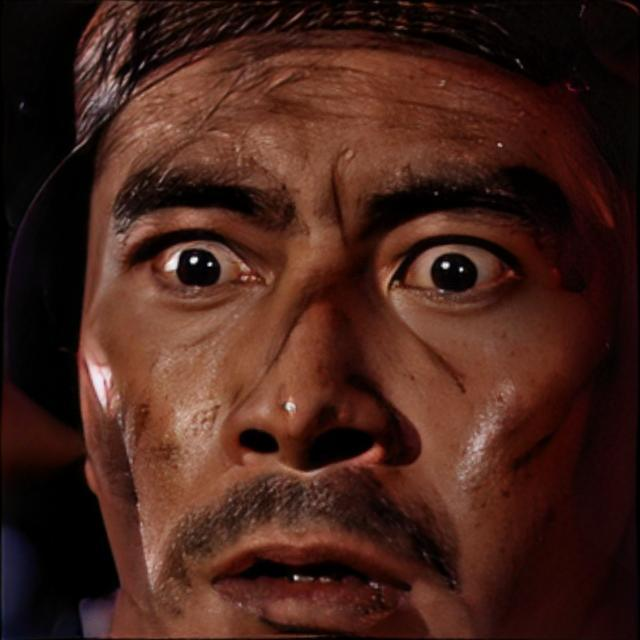fear: (79, 0, 640, 639)
